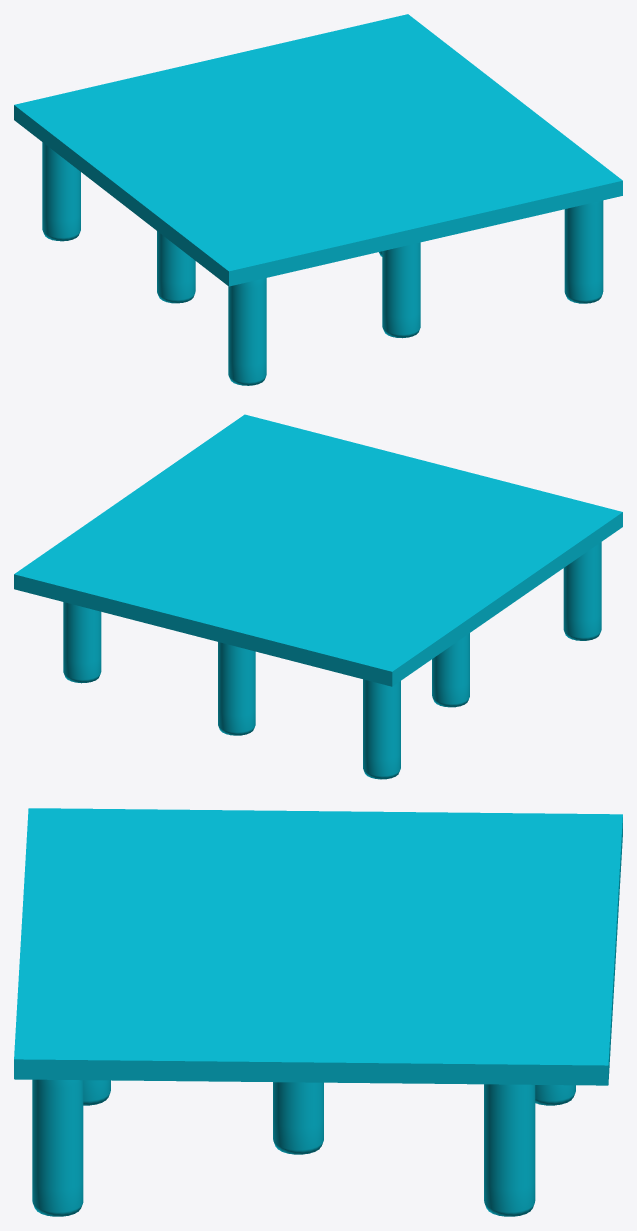
File: Middock.fbx
3 renders of one model, top to bottom at view 1: azimuth 30°, elevation 25°; view 2: azimuth 150°, elevation 25°; view 3: azimuth 270°, elevation 25°, orthographic. The views are drawn at different scales.
Parts seen in each view (by area): view 1: MidDock; view 2: MidDock; view 3: MidDock.
Boxes of the visible parts, <box> form: MidDock: <box>14,14,622,385</box>; MidDock: <box>14,414,622,779</box>; MidDock: <box>14,808,622,1216</box>.
Size of the model in its own units: 5.54 by 1.65 by 5.54.
